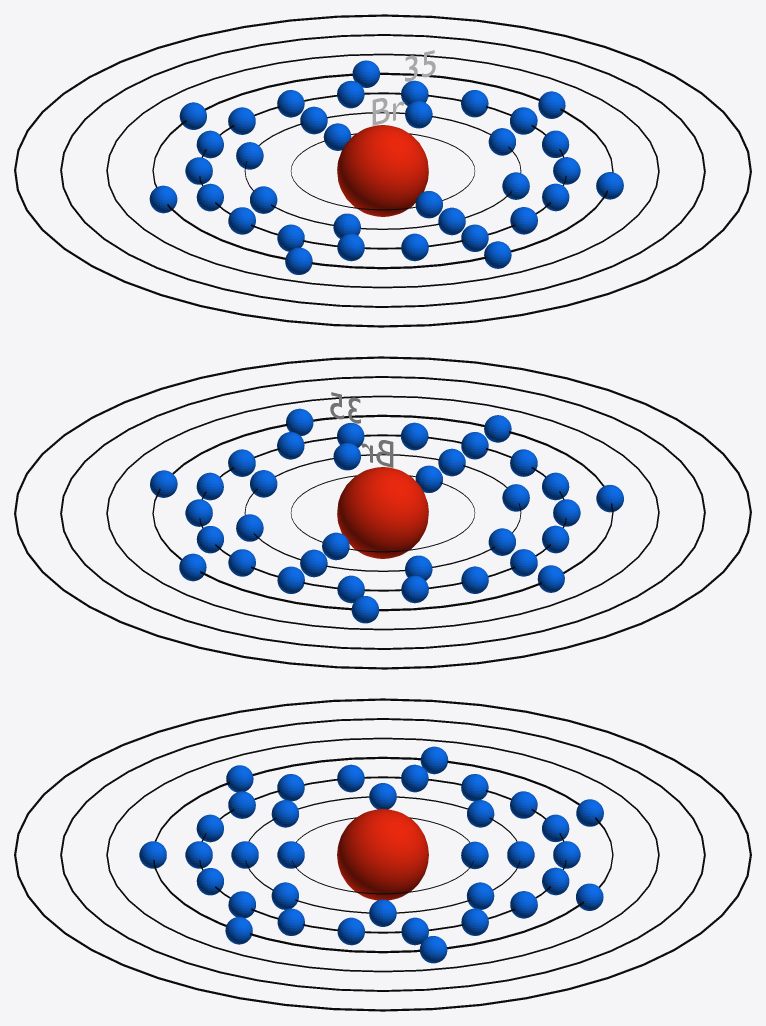
3 views of the same model, one above another, from view 1: azimuth 30°, elevation 25°; view 2: azimuth 150°, elevation 25°; view 3: azimuth 270°, elevation 25° (orthographic).
Parts seen in each view (by area): view 1: Br3, Proton, Br2, n7, Br4, n6, n5, n4, Br1, n3, n2; view 2: Br3, Proton, Br2, n7, Br4, n6, n5, n4, Br1, n3, n2; view 3: Br3, Proton, Br2, n7, Br4, n6, n5, n4, Br1, n3, n2, n1.
Part boxes in pixels (x1,y1,x2,y2): Br3: (185, 80, 580, 261); Proton: (337, 125, 428, 216); Br2: (236, 101, 529, 238); n7: (14, 14, 751, 327); Br4: (149, 60, 623, 274); n6: (60, 34, 705, 307); n5: (106, 53, 659, 288); n4: (152, 72, 613, 269); Br1: (323, 123, 442, 218); n3: (199, 92, 566, 249); n2: (244, 112, 521, 229); Br3: (185, 422, 580, 603); Proton: (337, 467, 428, 558); Br2: (236, 443, 529, 580); n7: (14, 356, 751, 669); Br4: (150, 408, 623, 623); n6: (60, 376, 705, 649); n5: (106, 395, 659, 630); n4: (152, 414, 613, 611); Br1: (322, 465, 442, 560); n3: (199, 434, 566, 591); n2: (244, 454, 521, 571); Br3: (185, 764, 580, 945); Proton: (337, 809, 428, 900); Br2: (231, 783, 534, 926); n7: (14, 698, 751, 1011); Br4: (139, 746, 603, 963); n6: (60, 718, 705, 991); n5: (106, 737, 659, 972); n4: (153, 756, 613, 953); Br1: (277, 841, 488, 869); n3: (199, 776, 566, 933); n2: (245, 796, 520, 913); n1: (292, 817, 473, 894).
Bounding box in the file's own units: 802 × 180 × 802.
